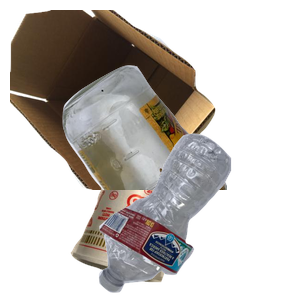cardboard: (10, 10, 218, 190)
glass: (60, 63, 300, 243)
plastic: (96, 131, 300, 300)
trash: (68, 158, 235, 300)
